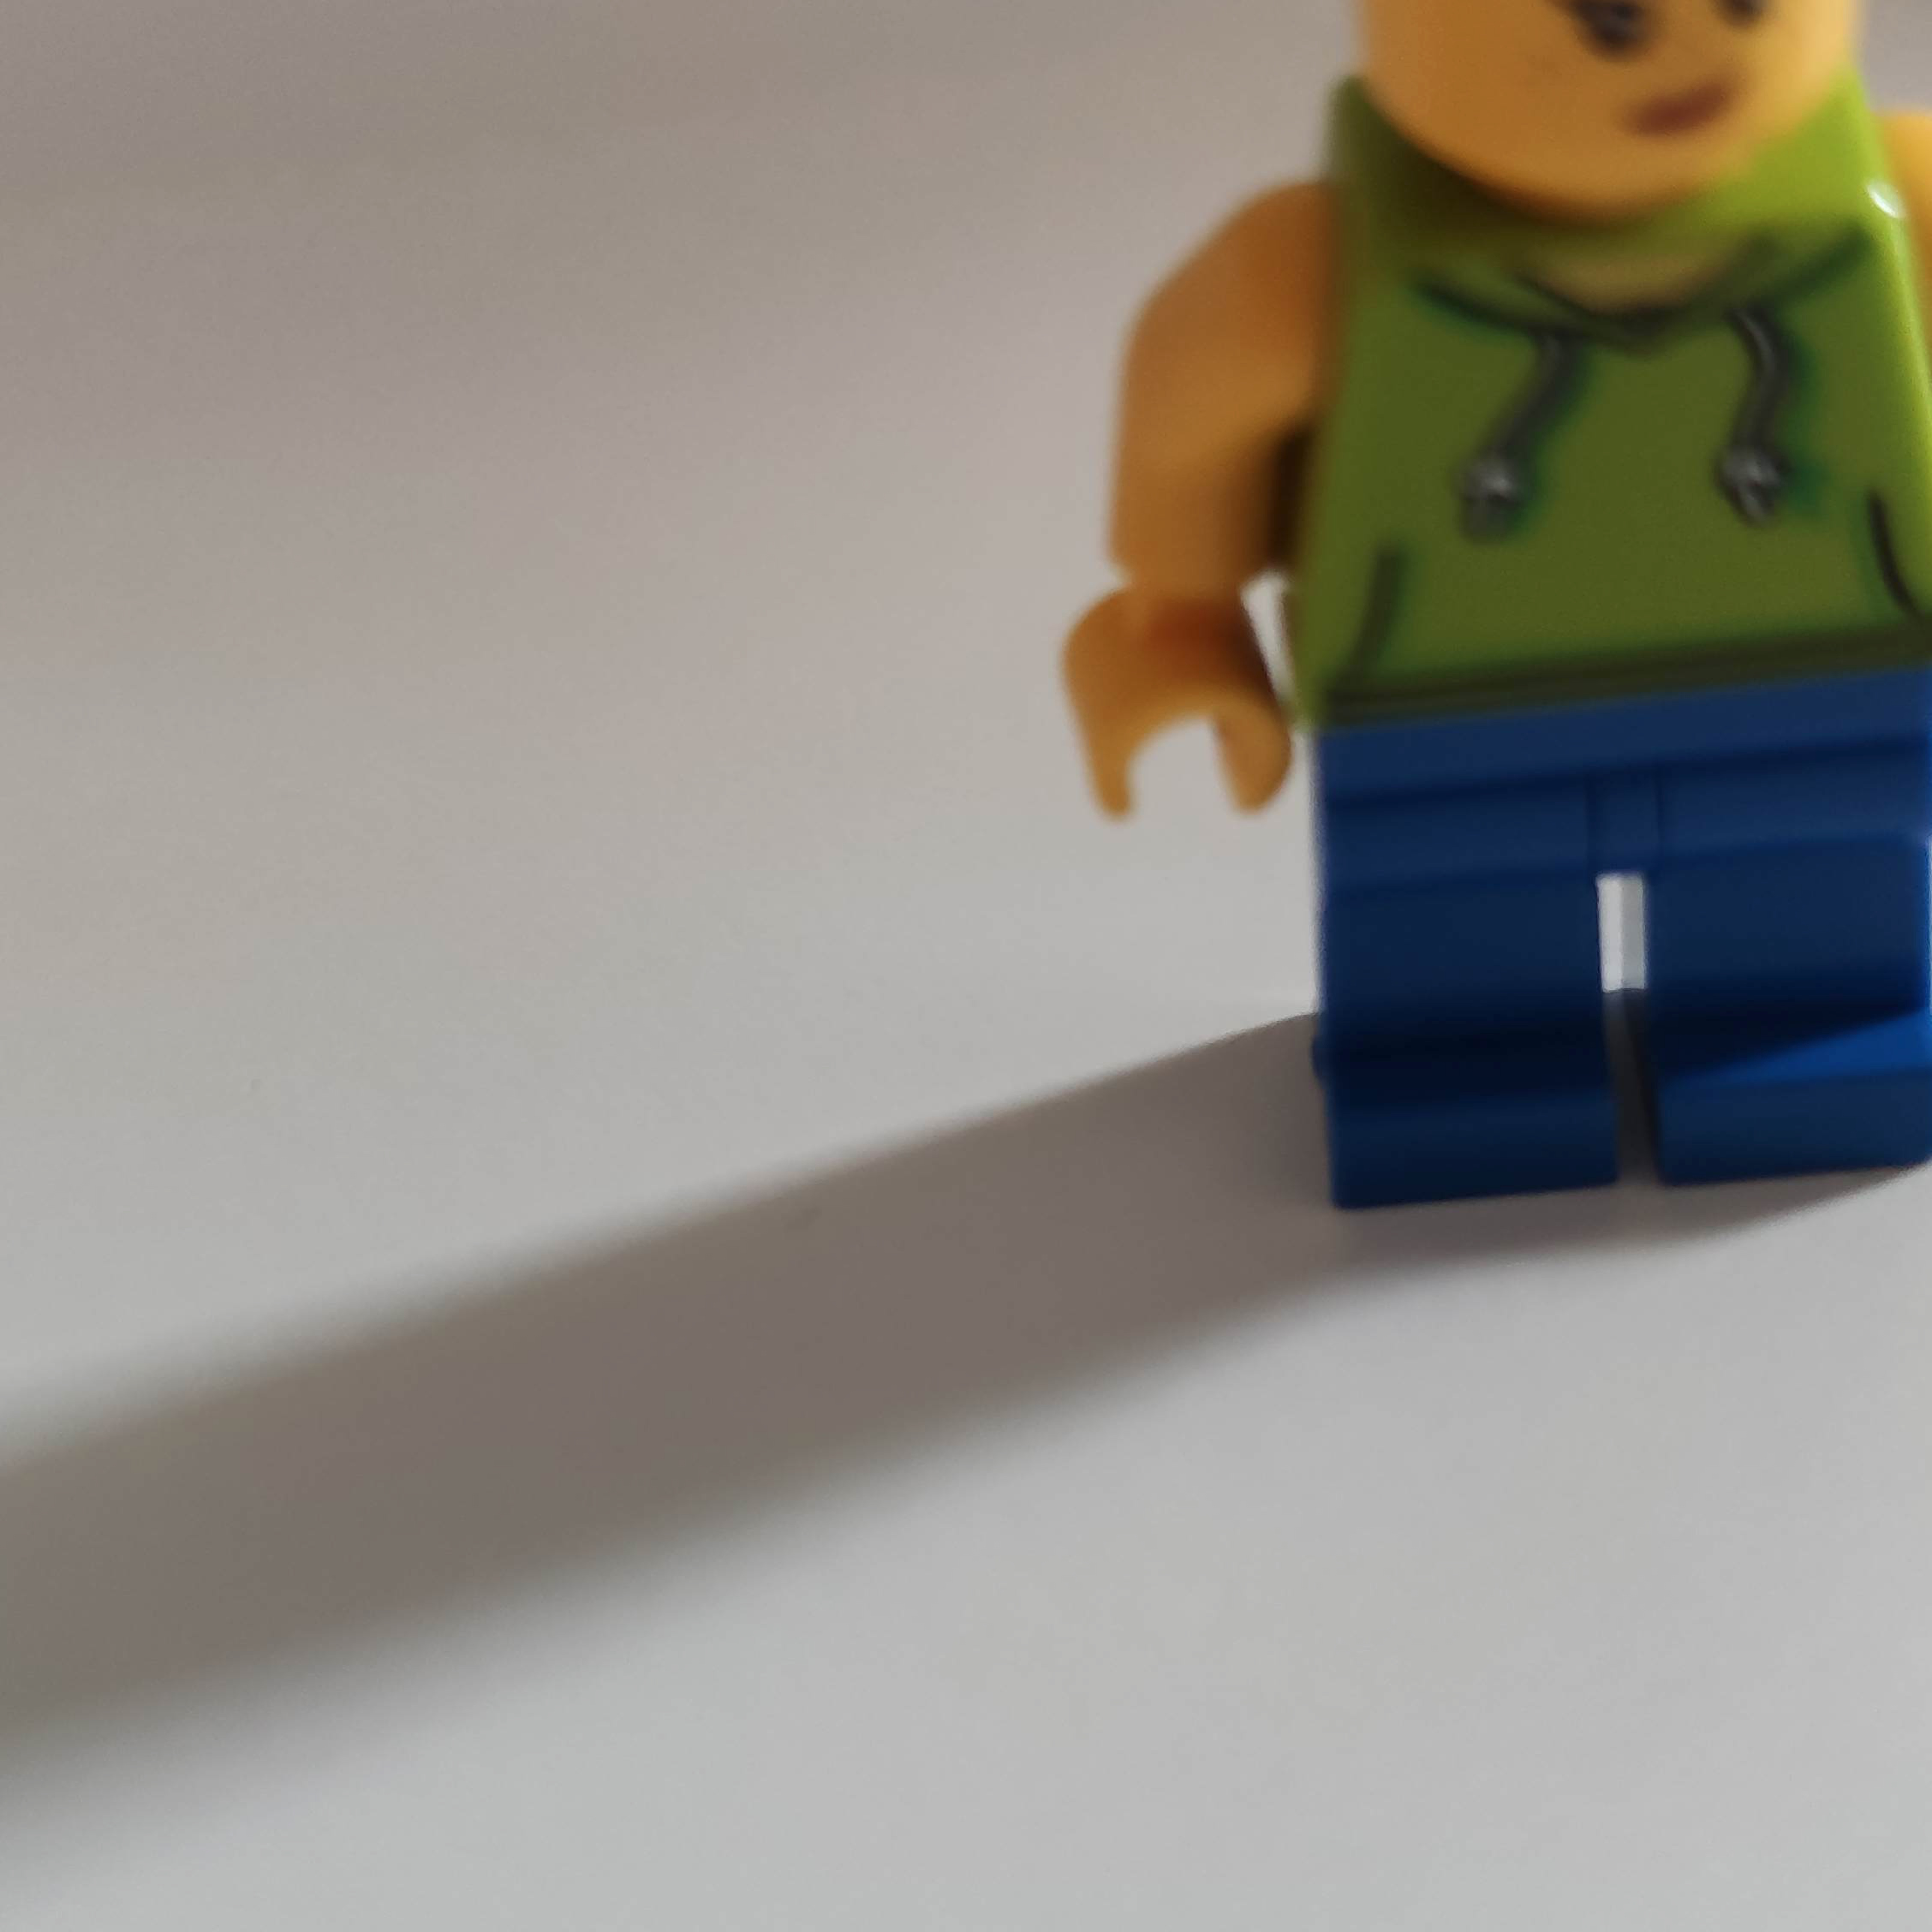lego: (1060, 19, 1932, 1212)
